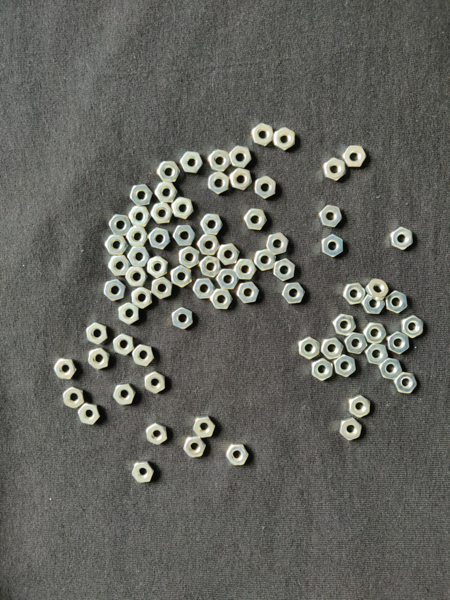nut: (339, 418, 363, 442), (252, 123, 275, 147), (319, 205, 343, 228), (244, 208, 268, 231), (391, 227, 414, 251), (266, 233, 290, 256), (401, 315, 424, 339), (394, 372, 418, 395), (157, 161, 182, 183), (209, 149, 232, 172), (217, 243, 240, 266), (344, 283, 367, 306), (386, 291, 409, 314), (321, 337, 344, 360), (132, 344, 155, 367), (343, 146, 367, 168), (274, 127, 296, 151), (322, 234, 344, 258), (274, 258, 296, 282), (282, 283, 306, 305), (171, 265, 193, 289), (333, 314, 357, 336), (363, 322, 387, 344), (365, 344, 389, 366), (379, 358, 403, 380), (226, 444, 250, 466), (324, 158, 346, 181), (230, 145, 252, 168), (180, 151, 203, 173), (230, 168, 253, 190), (255, 176, 277, 199), (130, 184, 153, 206), (172, 197, 194, 220), (148, 228, 171, 250), (237, 282, 260, 304), (147, 256, 169, 279), (172, 307, 194, 330), (103, 279, 126, 301), (366, 279, 389, 301), (387, 332, 409, 355), (334, 355, 357, 377), (86, 322, 108, 345), (54, 358, 77, 380), (146, 423, 168, 446), (344, 333, 368, 354), (145, 371, 166, 395), (173, 226, 198, 246), (151, 202, 173, 224), (254, 249, 276, 271), (200, 256, 222, 278), (88, 348, 110, 370), (63, 387, 85, 409), (132, 462, 154, 484), (209, 172, 230, 195), (129, 206, 152, 227), (201, 214, 224, 235), (109, 215, 132, 236), (105, 235, 128, 256), (234, 259, 257, 280), (179, 246, 200, 269), (216, 269, 239, 290), (127, 246, 150, 267), (152, 277, 173, 300), (193, 279, 216, 300), (210, 289, 233, 310), (299, 337, 320, 360), (113, 333, 134, 356), (113, 384, 136, 405), (78, 404, 101, 425), (193, 417, 216, 438), (362, 295, 386, 315), (198, 235, 220, 256), (131, 287, 152, 309), (119, 303, 140, 325), (350, 396, 371, 418), (184, 437, 206, 458), (155, 183, 178, 203), (108, 256, 131, 276), (125, 267, 148, 287), (126, 227, 148, 247)
